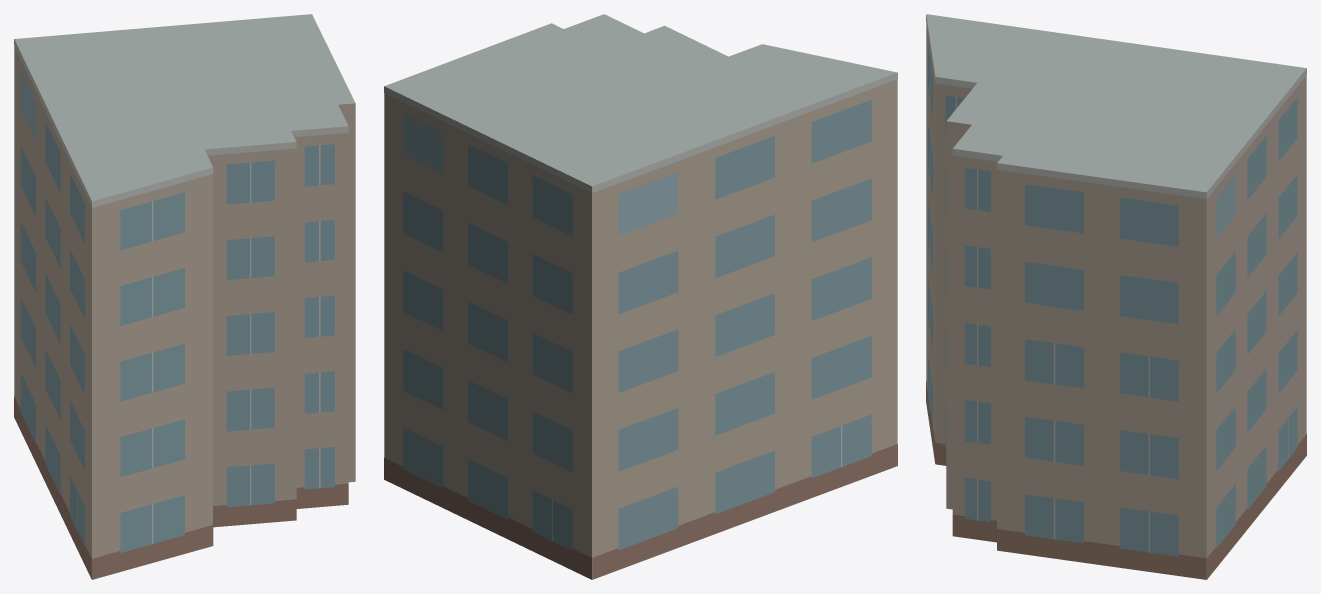
File: survey-upis-32525052.glb
3 renders of one model, left to right at view 1: azimuth 30°, elevation 25°; view 2: azimuth 150°, elevation 25°; view 3: azimuth 270°, elevation 25°, orthographic. The views are drawn at different scales.
Visible parts, largest first — view 1: survey-upis-32525052.tmp; view 2: survey-upis-32525052.tmp; view 3: survey-upis-32525052.tmp.
Boxes of the visible parts, bbox=[...] form: survey-upis-32525052.tmp: bbox=[14, 14, 355, 579]; survey-upis-32525052.tmp: bbox=[384, 14, 897, 579]; survey-upis-32525052.tmp: bbox=[926, 14, 1306, 579].
Bounding box in the file's own units: 14.08 × 14.25 × 12.7.
